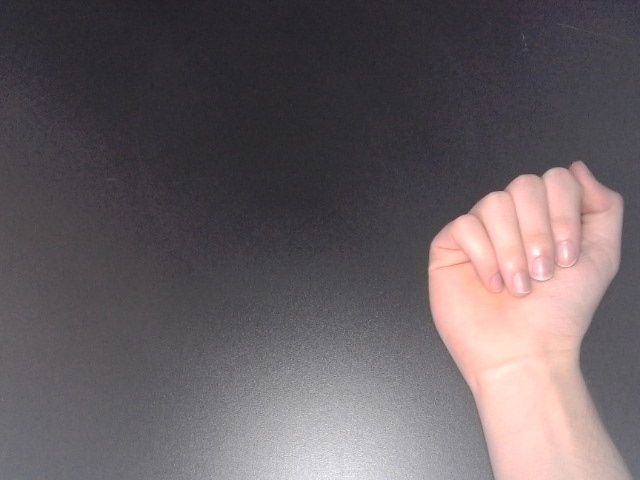a: (422, 156, 628, 390)
